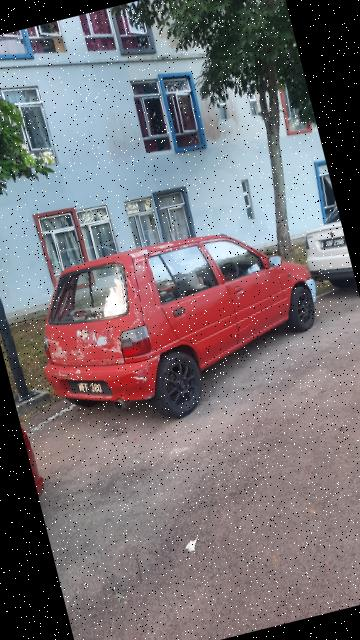License_Plate: (65, 369, 119, 411)
car: (21, 206, 344, 449)
